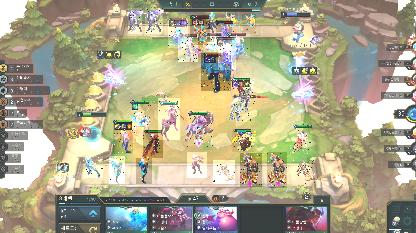1_bard: (232, 130, 254, 152)
1_graves: (168, 18, 188, 48), (206, 12, 218, 32)
1_jayce: (240, 153, 262, 187), (267, 152, 287, 188)
1_leesin: (109, 156, 125, 184), (136, 158, 152, 184)
1_pantheon: (145, 8, 163, 34), (128, 8, 142, 34)
1_rakan: (143, 130, 163, 158), (187, 152, 207, 178)
1_twitch: (292, 160, 316, 184), (213, 160, 235, 184)
1_yasuo: (218, 38, 236, 70)
1_zeri: (242, 14, 256, 34), (226, 14, 238, 32)
2_ezreal: (113, 120, 133, 154), (83, 156, 103, 178)
2_leesin: (228, 32, 250, 58)
2_lillia: (158, 98, 180, 140)
2_rakan: (178, 34, 198, 62)
2_rell: (231, 78, 255, 122)
2_sejuani: (187, 111, 213, 147)
2_seraphine: (131, 100, 151, 136), (203, 32, 223, 52)
2_xayah: (292, 124, 312, 154)
2_zac: (201, 53, 231, 91)
2_zeri: (190, 15, 210, 45)
2_zyra: (216, 20, 232, 44)
